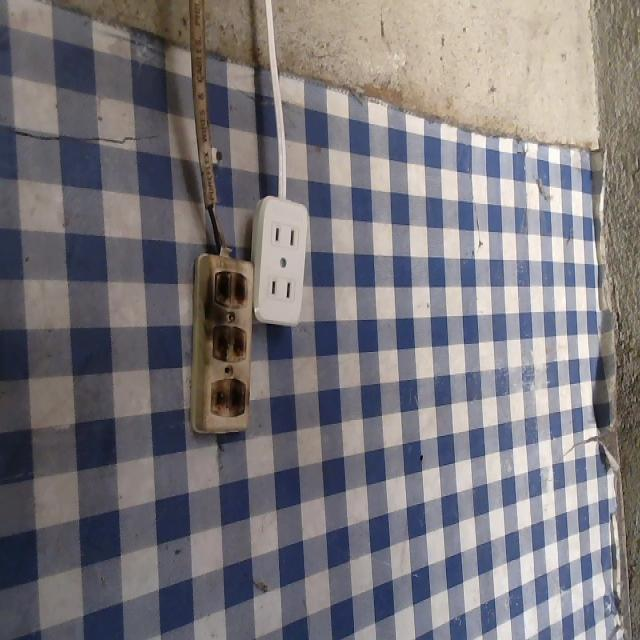-: (204, 318, 249, 366), (207, 374, 246, 418), (210, 266, 248, 306)
